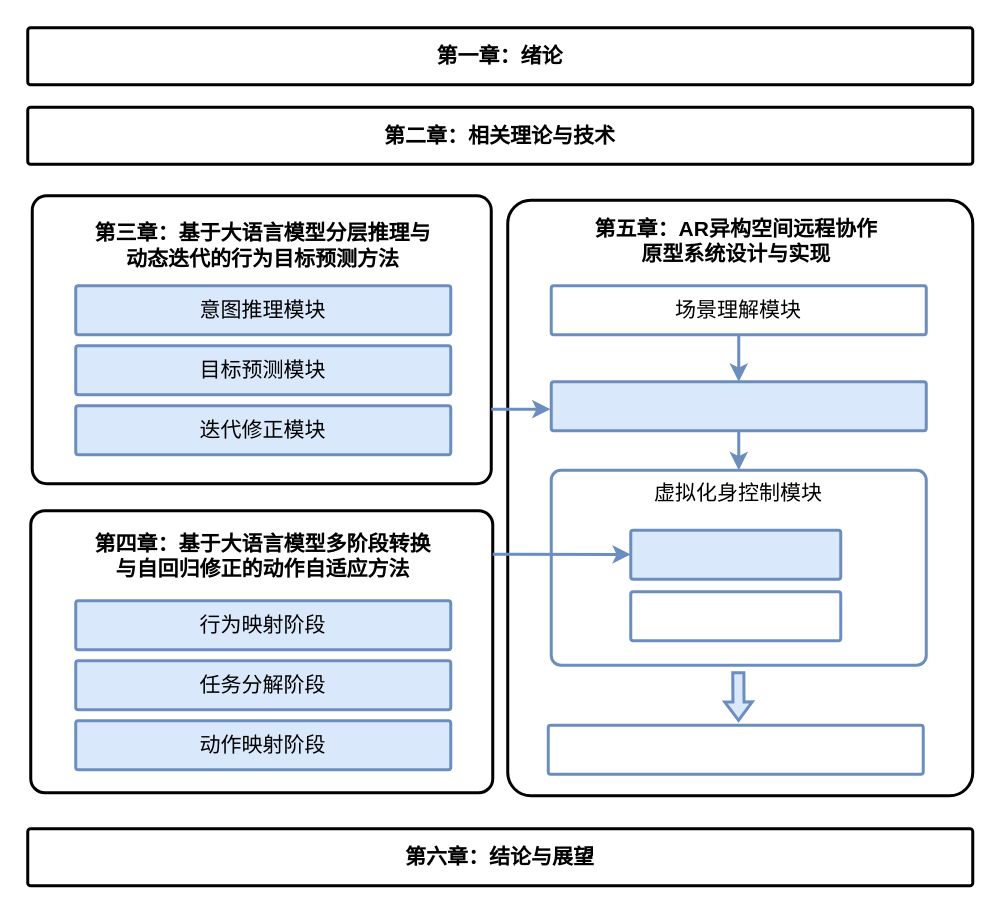
Some shapes in this 999 by 912 pixel diagram are drawn without their labels. Here are the shapes that lost their labels. From the top down, the centre of each, then its label:
pixel 738 405: 行为目标预测模块
pixel 735 554: 动作序列生成
pixel 735 615: 动作序列应用
pixel 735 749: 虚拟化身交互行为
